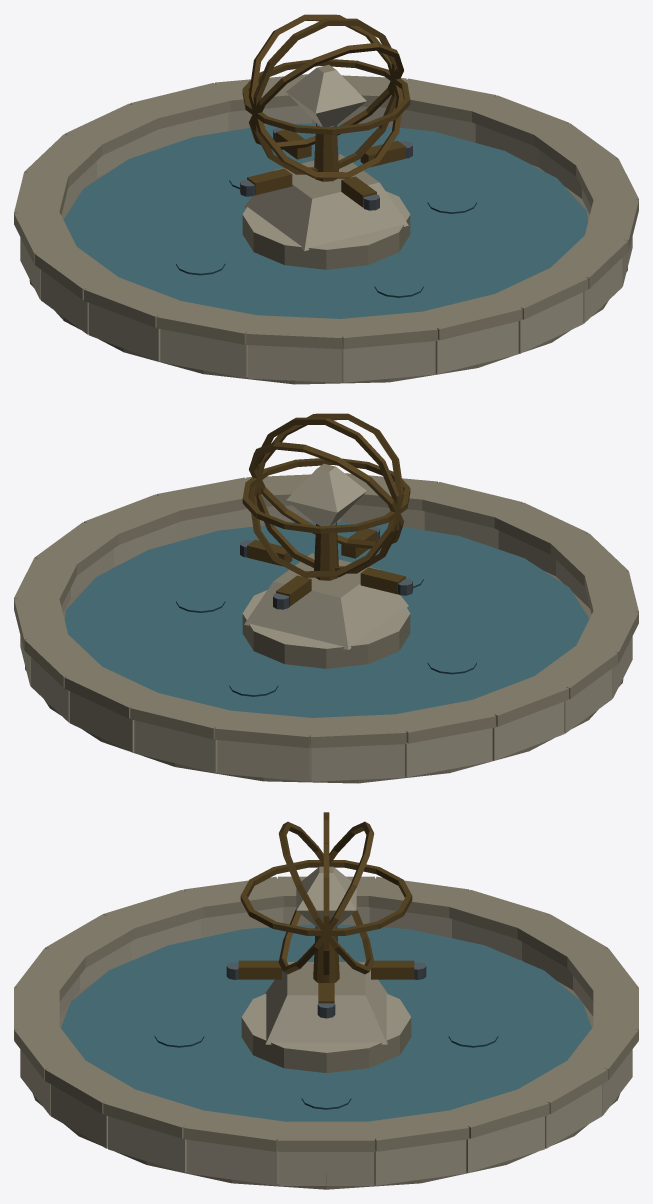
The model's file is lp_court_fountain.glb.
3 views of the same model, one above another, from view 1: azimuth 30°, elevation 25°; view 2: azimuth 150°, elevation 25°; view 3: azimuth 270°, elevation 25° (orthographic).
Parts seen in each view (by area): view 1: lp_court_fountain; view 2: lp_court_fountain; view 3: lp_court_fountain.
Part boxes in pixels (x1,y1,x2,y2): lp_court_fountain: [14, 14, 638, 384]; lp_court_fountain: [14, 413, 638, 783]; lp_court_fountain: [14, 812, 638, 1189].
Bounding box in the file's own units: 6.04 × 2.56 × 6.04.
1 material, 1 textured.
